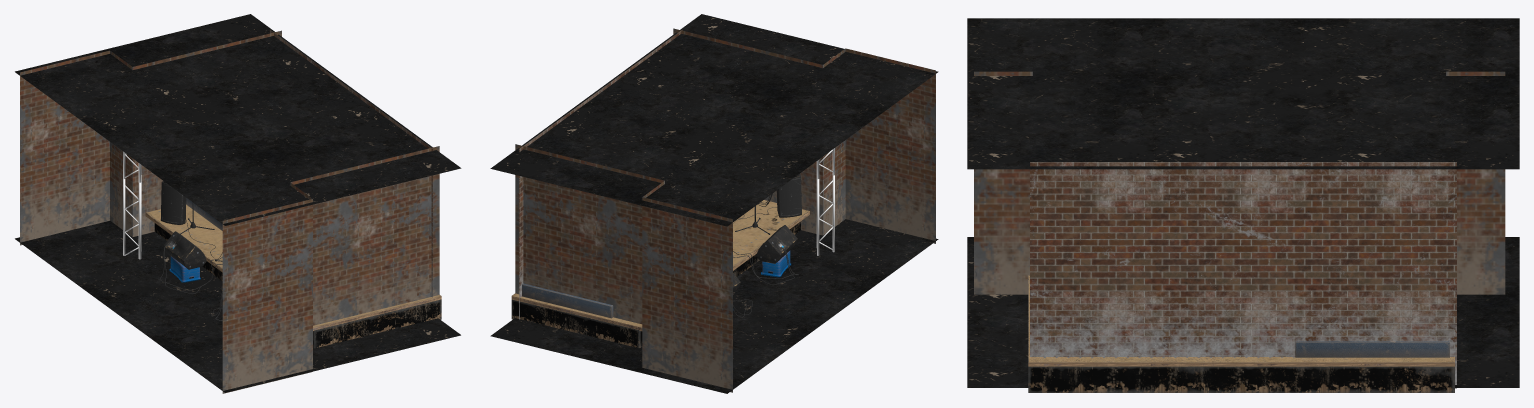
3 views of the same model, side by side, from view 1: azimuth 30°, elevation 25°; view 2: azimuth 150°, elevation 25°; view 3: azimuth 270°, elevation 25° (orthographic). The views are drawn at different scales.
Parts seen in each view (by area): view 1: Object_10, Object_32, Object_9, Object_20, Object_21, Object_29, Object_16, Object_3, Object_24; view 2: Object_10, Object_32, Object_9, Object_21, Object_20, Object_29, Object_6, Object_3, Object_16, Object_24; view 3: Object_10, Object_3, Object_32, Object_9, Object_20, Object_21, Object_6.
Boxes of the visible parts, x1,y1,x2,y2 form: Object_10: (15,14,461,225); Object_32: (20,30,439,393); Object_9: (15,221,460,392); Object_20: (154,223,441,348); Object_21: (145,205,441,330); Object_29: (160,181,222,294); Object_16: (123,151,141,259); Object_3: (269,30,432,297); Object_24: (169,256,200,282); Object_10: (490,14,938,226); Object_32: (515,28,935,392); Object_9: (490,219,938,393); Object_21: (511,200,809,331); Object_20: (511,221,800,348); Object_29: (733,173,801,292); Object_6: (522,283,613,318); Object_3: (519,30,682,319); Object_16: (816,148,834,255); Object_24: (733,250,791,310); Object_10: (967,18,1519,169); Object_3: (1030,162,1456,388); Object_32: (974,71,1505,294); Object_9: (967,237,1519,387); Object_20: (1028,366,1454,392); Object_21: (1028,275,1454,366); Object_6: (1295,341,1449,357).
Bounding box in the file's own units: 10.81 × 7.45 × 16.46.
35 materials, 22 textured.
